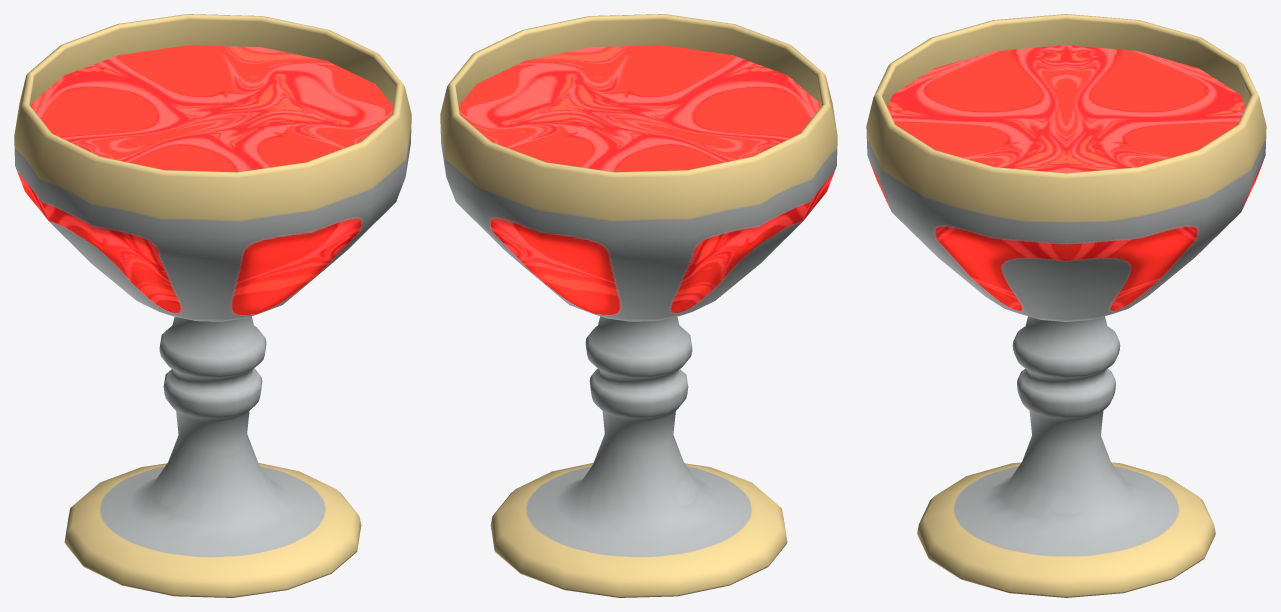
File: BarCocktails02_4.FBX
The picture shows the model from 3 angles, left to right: view 1: azimuth 30°, elevation 25°; view 2: azimuth 150°, elevation 25°; view 3: azimuth 270°, elevation 25°; orthographic projection.
Parts seen in each view (by area): view 1: BarCocktails02_4; view 2: BarCocktails02_4; view 3: BarCocktails02_4.
Boxes of the visible parts, x1,y1,x2,y2 form: BarCocktails02_4: (14, 14, 411, 597); BarCocktails02_4: (440, 14, 837, 597); BarCocktails02_4: (866, 14, 1266, 597).
Size of what is drawn, in the model's own units: 0.1094 by 0.1332 by 0.1094.
